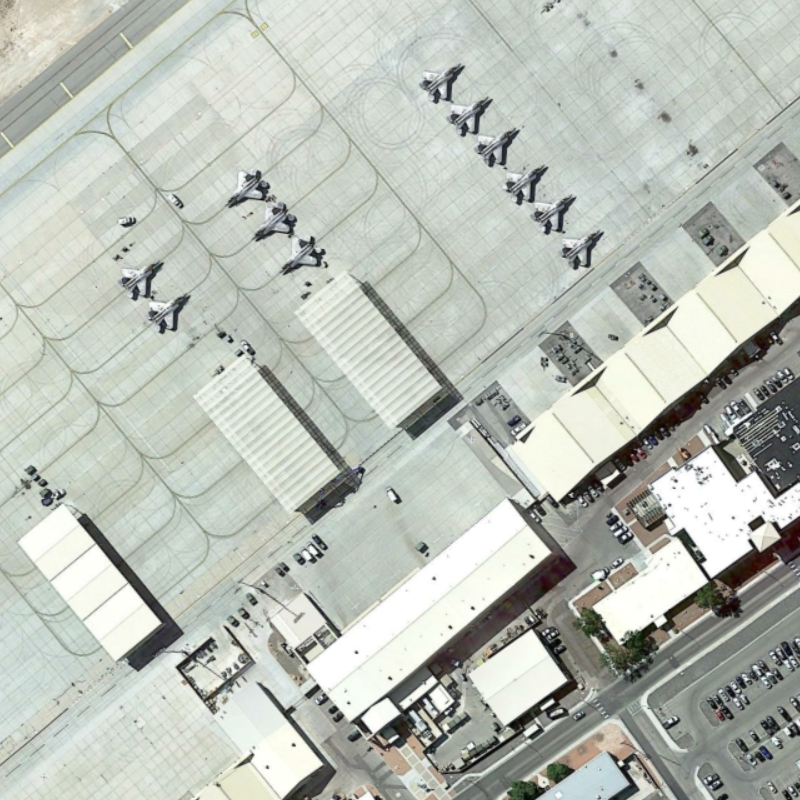A15: (272, 233, 326, 279), (144, 290, 193, 336), (246, 202, 299, 243), (499, 161, 548, 205), (222, 167, 271, 209), (444, 94, 490, 138), (470, 126, 517, 169), (557, 228, 604, 271), (116, 258, 161, 302), (417, 62, 462, 104), (530, 193, 575, 235)
